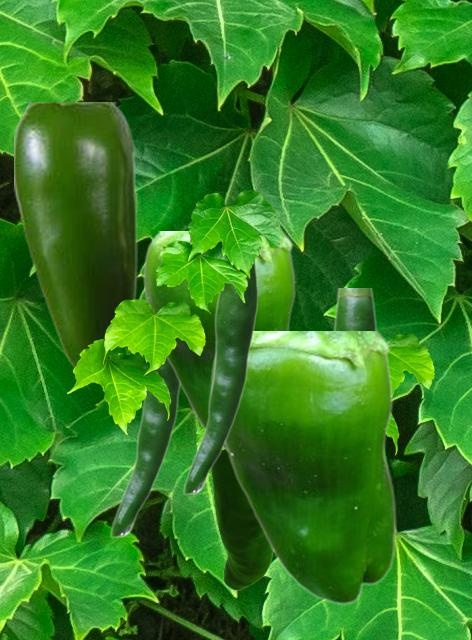green_chili: (209, 331, 395, 604), (142, 231, 297, 453), (14, 102, 136, 368), (182, 258, 256, 494), (109, 361, 180, 537), (209, 451, 274, 589), (333, 288, 375, 330)
